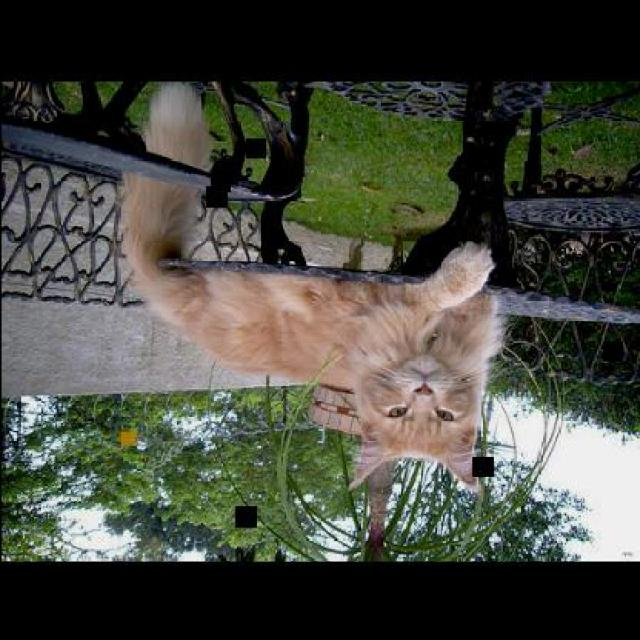unauthorized: (119, 78, 506, 497)
